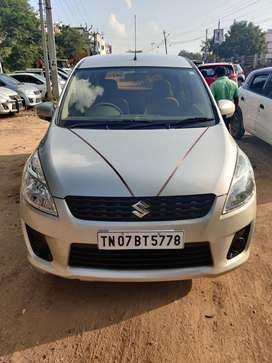TN07BT5778: (98, 232, 183, 249)
